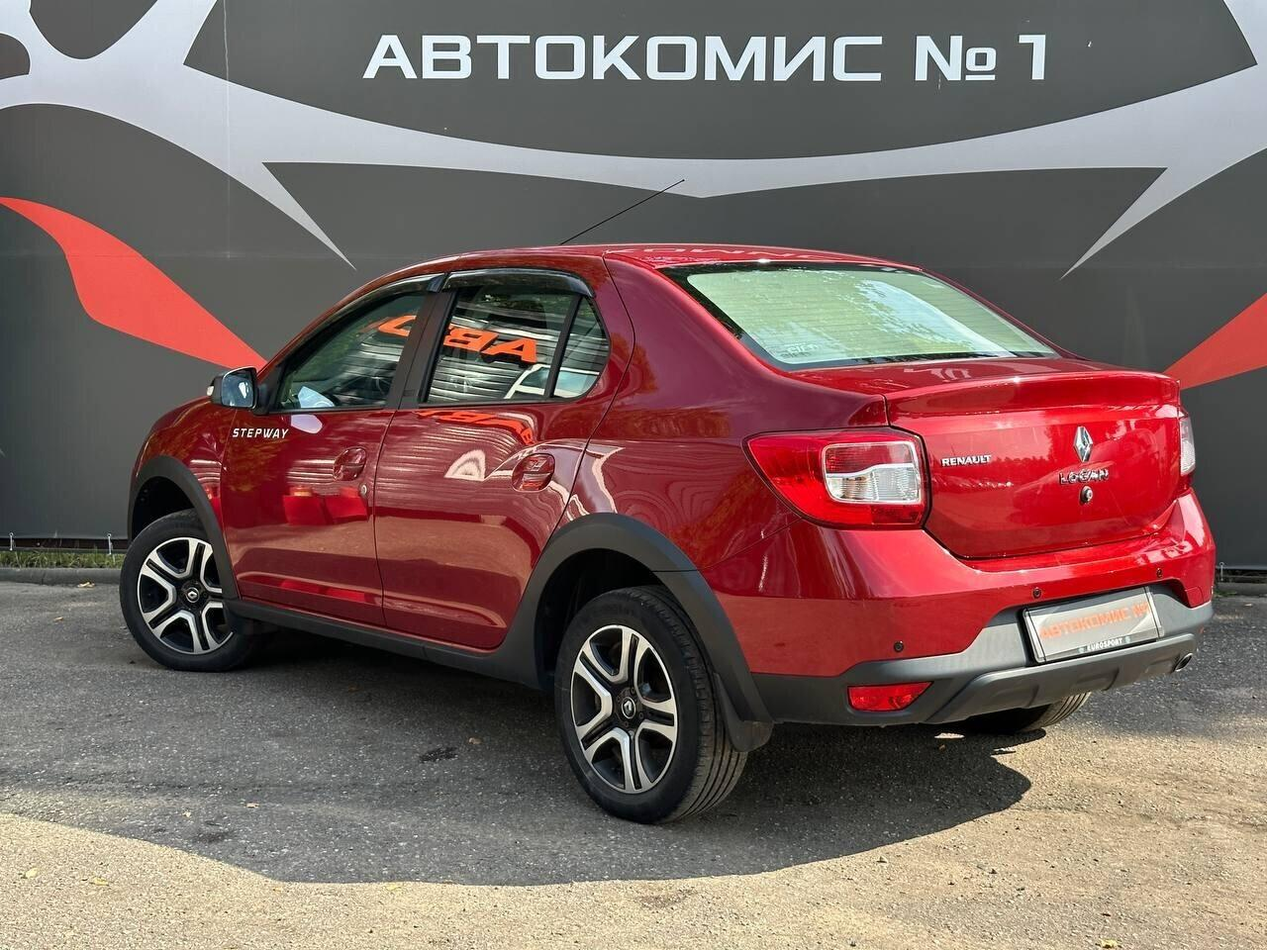Logan_2018: (111, 233, 1221, 819)
